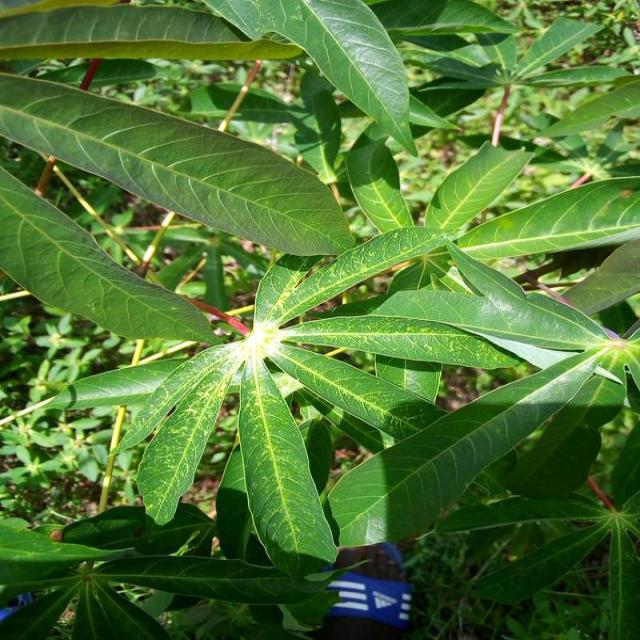cassava leaf: (0, 1, 638, 584), (0, 69, 355, 258), (0, 163, 217, 345), (202, 0, 418, 157)
